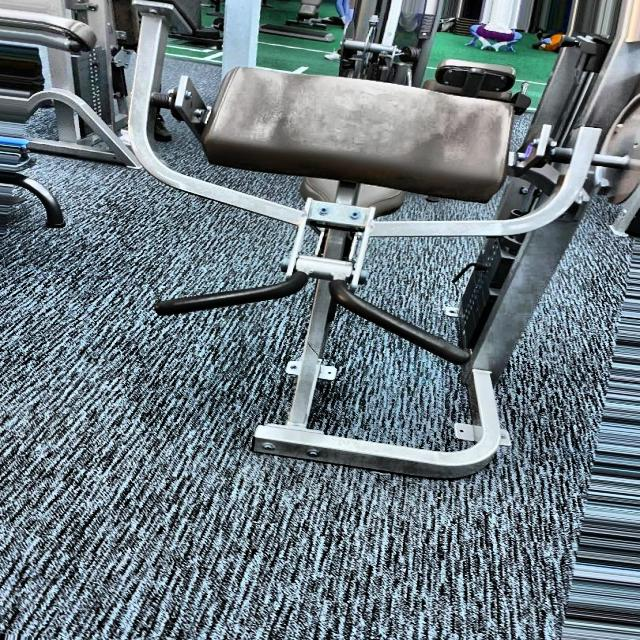bicep_curl_machine: (113, 34, 549, 496)
